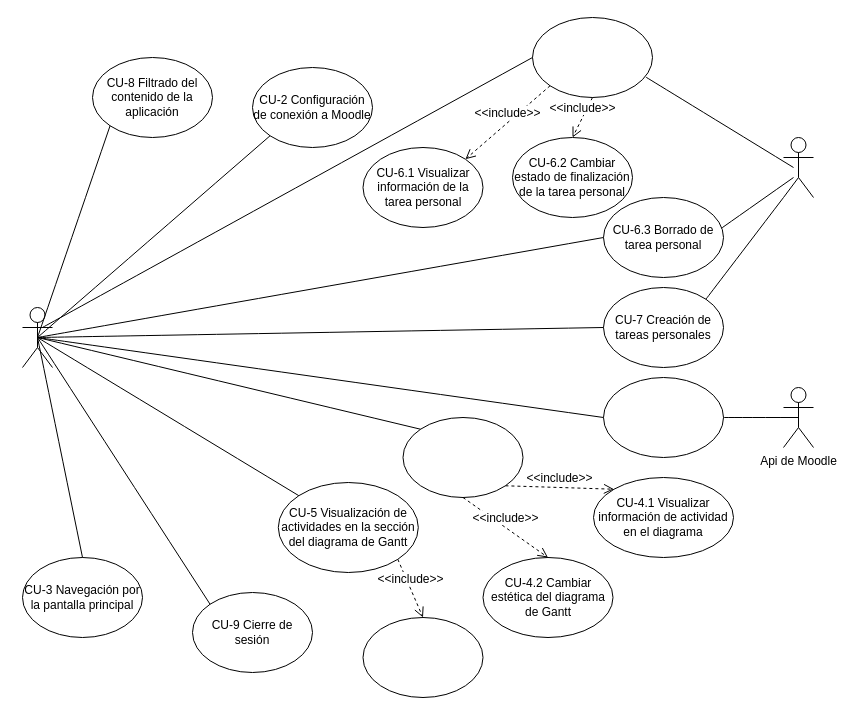
Image size: 854x715. Some labels were removed from this diagram. Here are the shapes that lost their labels. From the top down, the centre of each, then its label:
At (x=592, y=57): "CU-6 Visualización de tareas personales".
At (x=798, y=167): "Supabase".
At (x=37, y=337): "Usuario".
At (x=663, y=417): "CU-1 Inicio de sesión".
At (x=462, y=457): "CU-4 Visualización diagrama de Gantt".
At (x=422, y=657): "CU-5.1 Visualizar tarjeta de la actividad".
